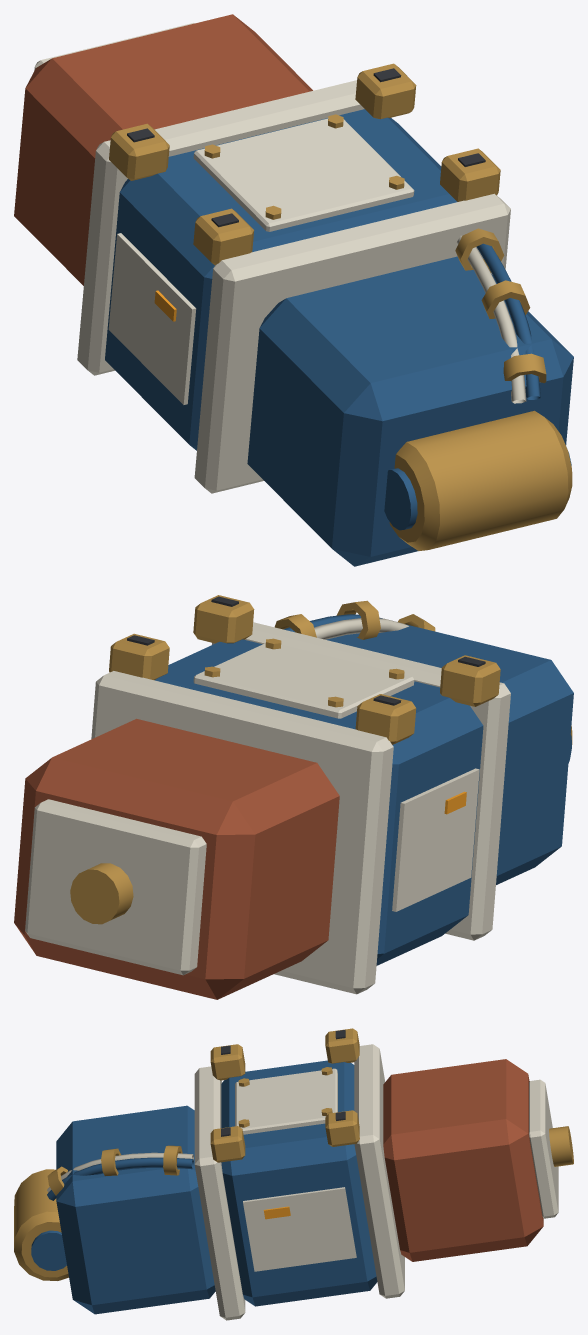
The model's file is rm2_abdomen.obj.
The picture shows the model from 3 angles, top to bottom: view 1: azimuth 30°, elevation 25°; view 2: azimuth 150°, elevation 25°; view 3: azimuth 270°, elevation 25°; orthographic projection. The views are drawn at different scales.
Parts seen in each view (by area): view 1: rm2_abdomen; view 2: rm2_abdomen; view 3: rm2_abdomen.
Boxes of the visible parts, x1=… form: rm2_abdomen: x1=14, y1=14, x2=573, y2=566; rm2_abdomen: x1=14, y1=595, x2=573, y2=999; rm2_abdomen: x1=14, y1=1028, x2=573, y2=1320.
Size of the model in its own units: 0.356 by 0.3595 by 0.8674.
